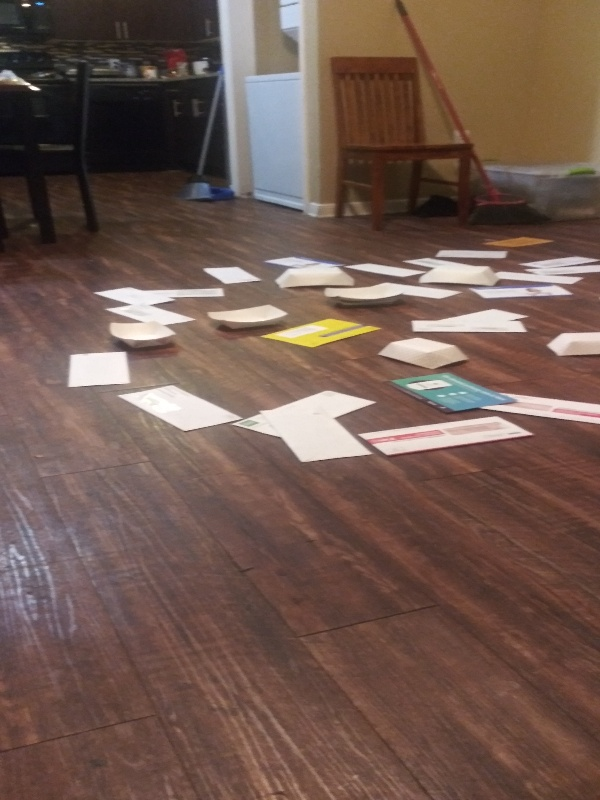plate: (370, 335, 473, 372), (203, 301, 293, 337), (104, 317, 181, 353), (271, 263, 354, 292), (322, 282, 410, 309), (416, 263, 503, 287), (543, 330, 600, 360)
